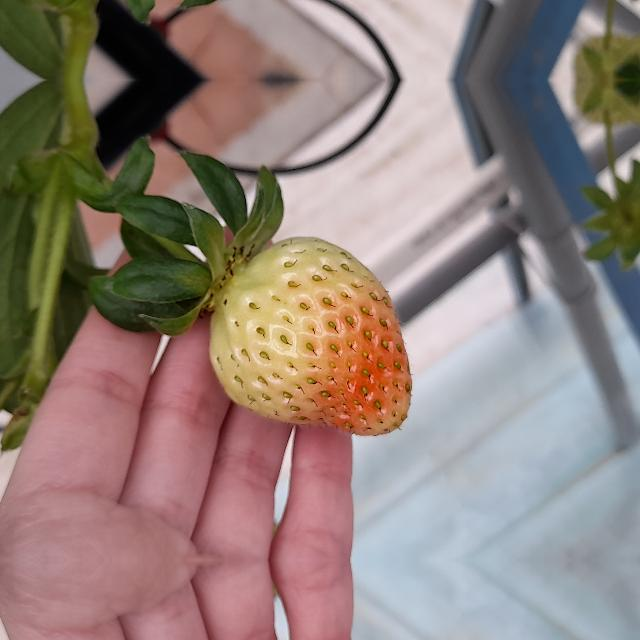Health_50: (210, 237, 412, 436)
